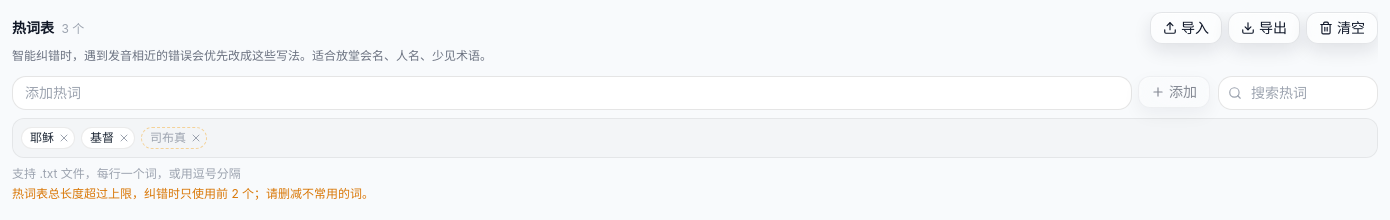
Scenario: HotwordEditor › adds a word with Enter and rejects duplicates
The image size is (1390, 220).
Type "柏溪团契" into the field with placeholder "添加热词" at (572, 93), box [12, 76, 1132, 110]
Then press Enter
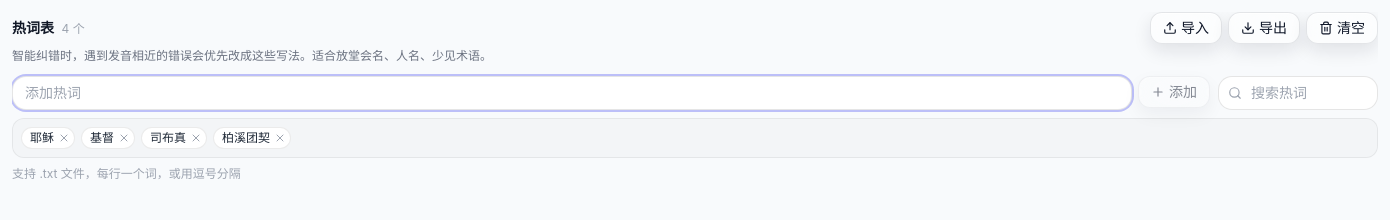
Type "耶稣" into the field with placeholder "添加热词" at (572, 93), box [12, 76, 1132, 110]
Then press Enter
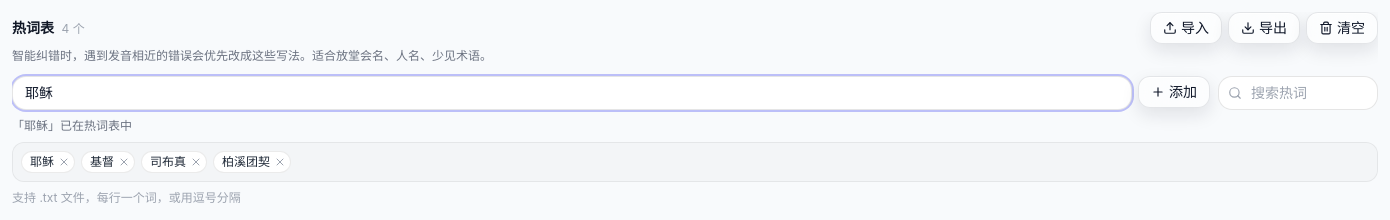
Check: the text "「耶稣」已在热词表中" is shown, box [12, 118, 132, 133]
